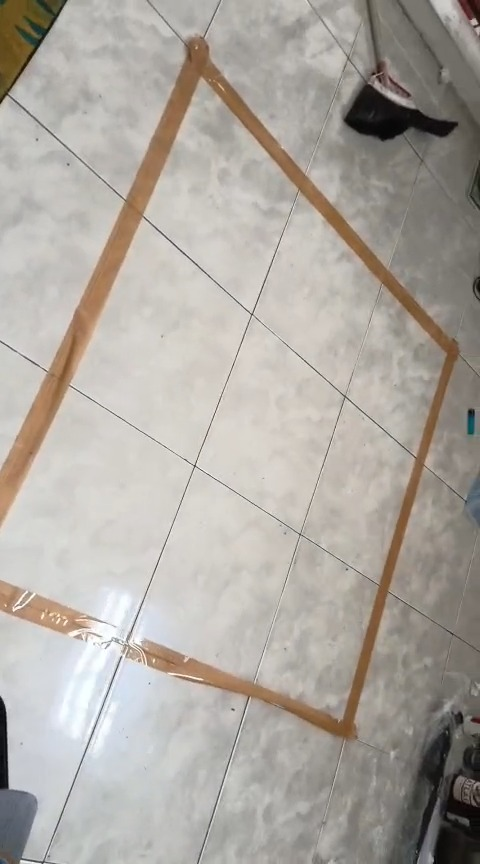floor marking: (0, 37, 458, 736)
